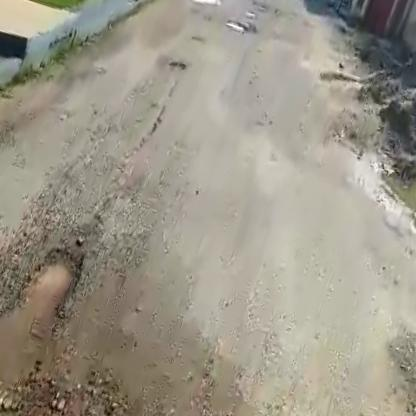pothole: (4, 232, 91, 337), (176, 0, 225, 10)
